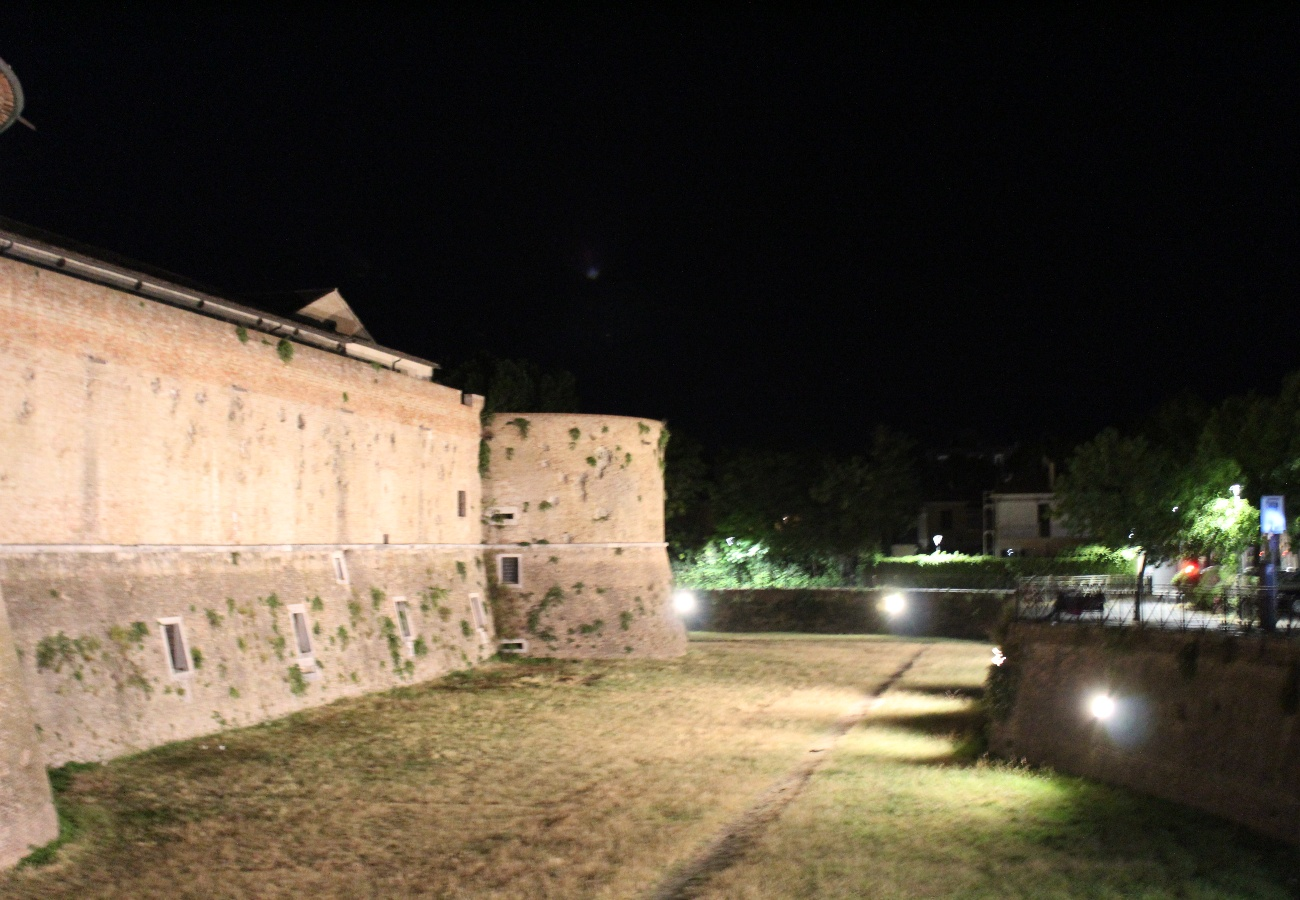Rocca Costanza: (10, 239, 691, 777)
